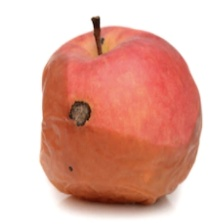apple: (65, 16, 203, 164)
